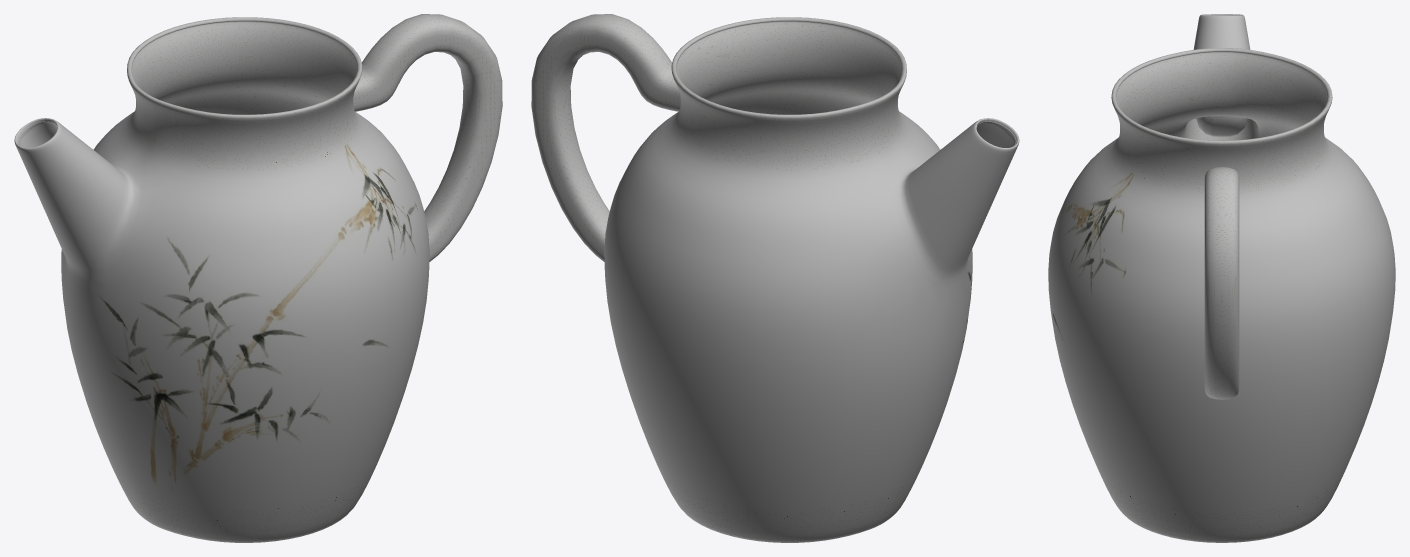
Rendered from qinghuacihu.glb.
3 renders of one model, left to right at view 1: azimuth 30°, elevation 25°; view 2: azimuth 150°, elevation 25°; view 3: azimuth 270°, elevation 25°, orthographic. The views are drawn at different scales.
Parts seen in each view (by area): view 1: qinghuacihu; view 2: qinghuacihu; view 3: qinghuacihu.
Part boxes in pixels (x1,y1,x2,y2): qinghuacihu: [14, 14, 502, 542]; qinghuacihu: [531, 14, 1019, 542]; qinghuacihu: [1048, 14, 1395, 542].
Bounding box in the file's own units: 0.1749 × 0.1515 × 0.1167.
Materials: 1 (1 with a texture image).
